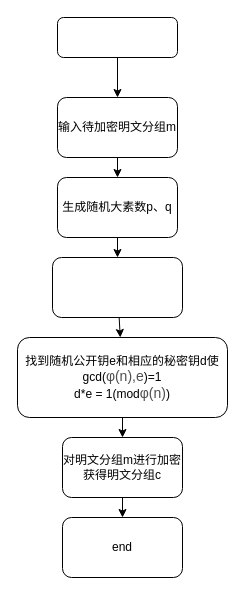
The diagram is 245 pixels wide and 595 high, and some of its shapes have lost their labels. Each missing label, with the box of its shape:
start: (56, 16, 178, 58)
计算n=p+q 计算 φ(n)=(p-1)*(q-1): (52, 256, 182, 318)
